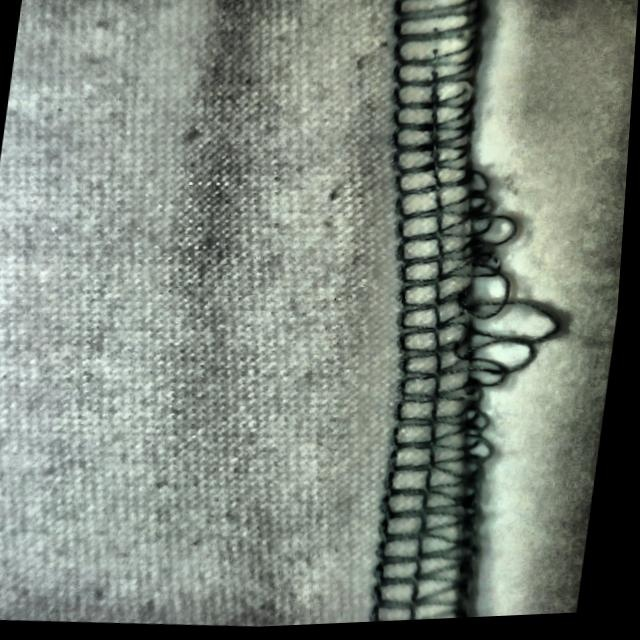Stitch: (351, 149, 602, 505)
